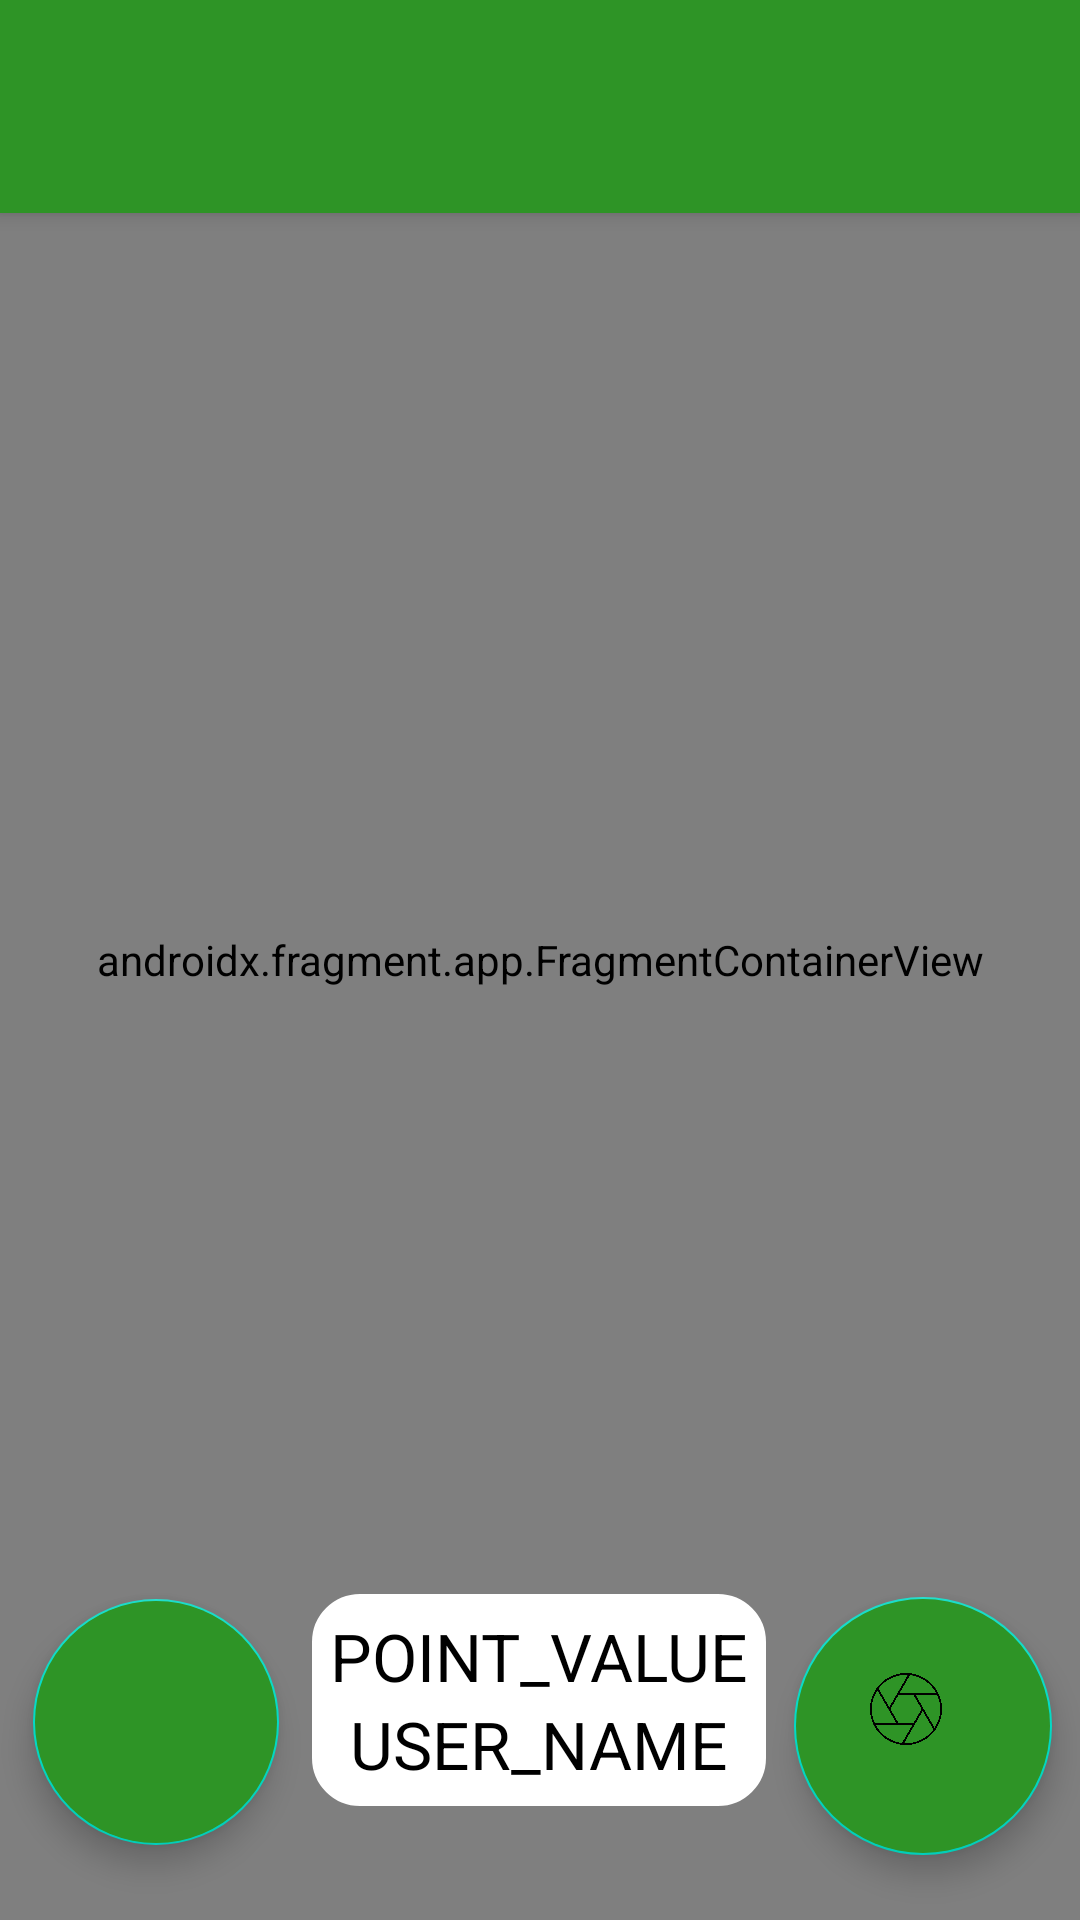

Where icons sit on this 1080 x 1920 app screen, as (x1, y1, x2, y2):
camera lens: (794, 1597, 1052, 1855)
